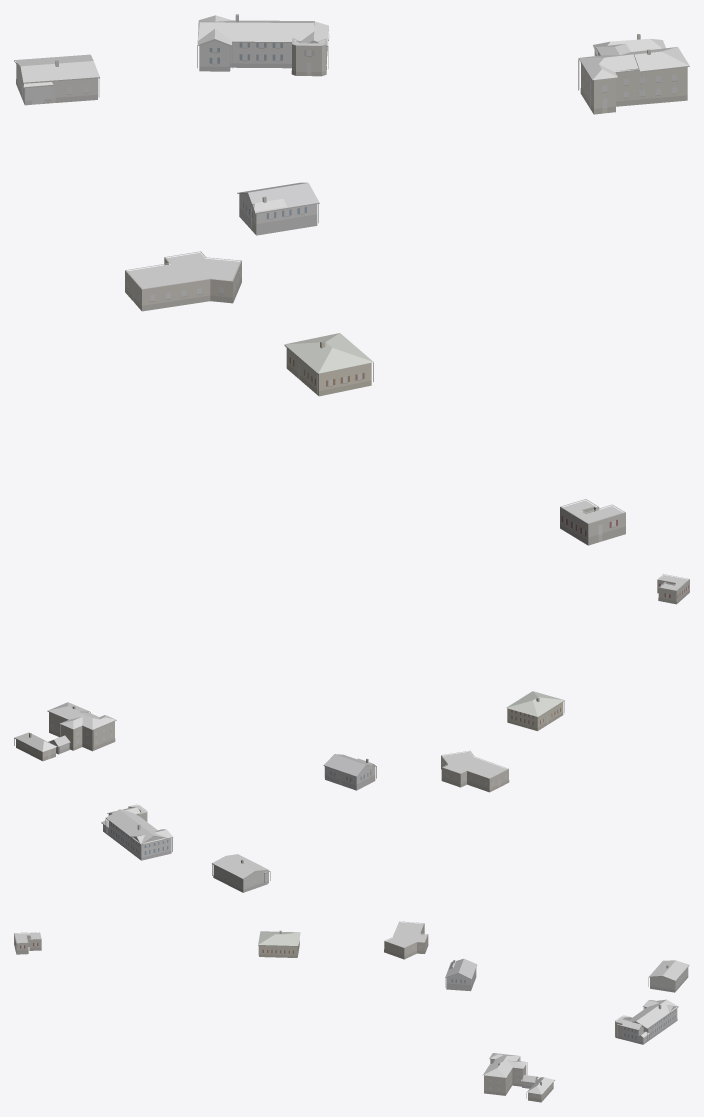
3 views of the same model, one above another, from view 1: azimuth 30°, elevation 25°; view 2: azimuth 150°, elevation 25°; view 3: azimuth 270°, elevation 25° (orthographic). The views are drawn at different scales.
Visible parts, largest first — view 1: bld; view 2: bld; view 3: bld.
Boxes of the visible parts, x1,y1,x2,y2 form: bld: (14,14,689,545); bld: (14,574,689,892); bld: (14,921,689,1102).
Bounding box in the file's own units: 148 × 12.04 × 251.
